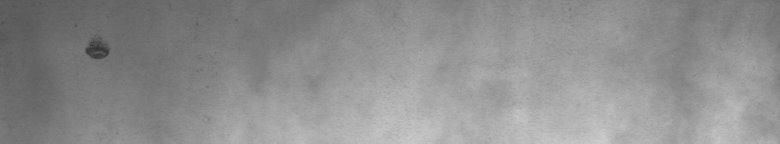fi: (80, 32, 114, 68)
